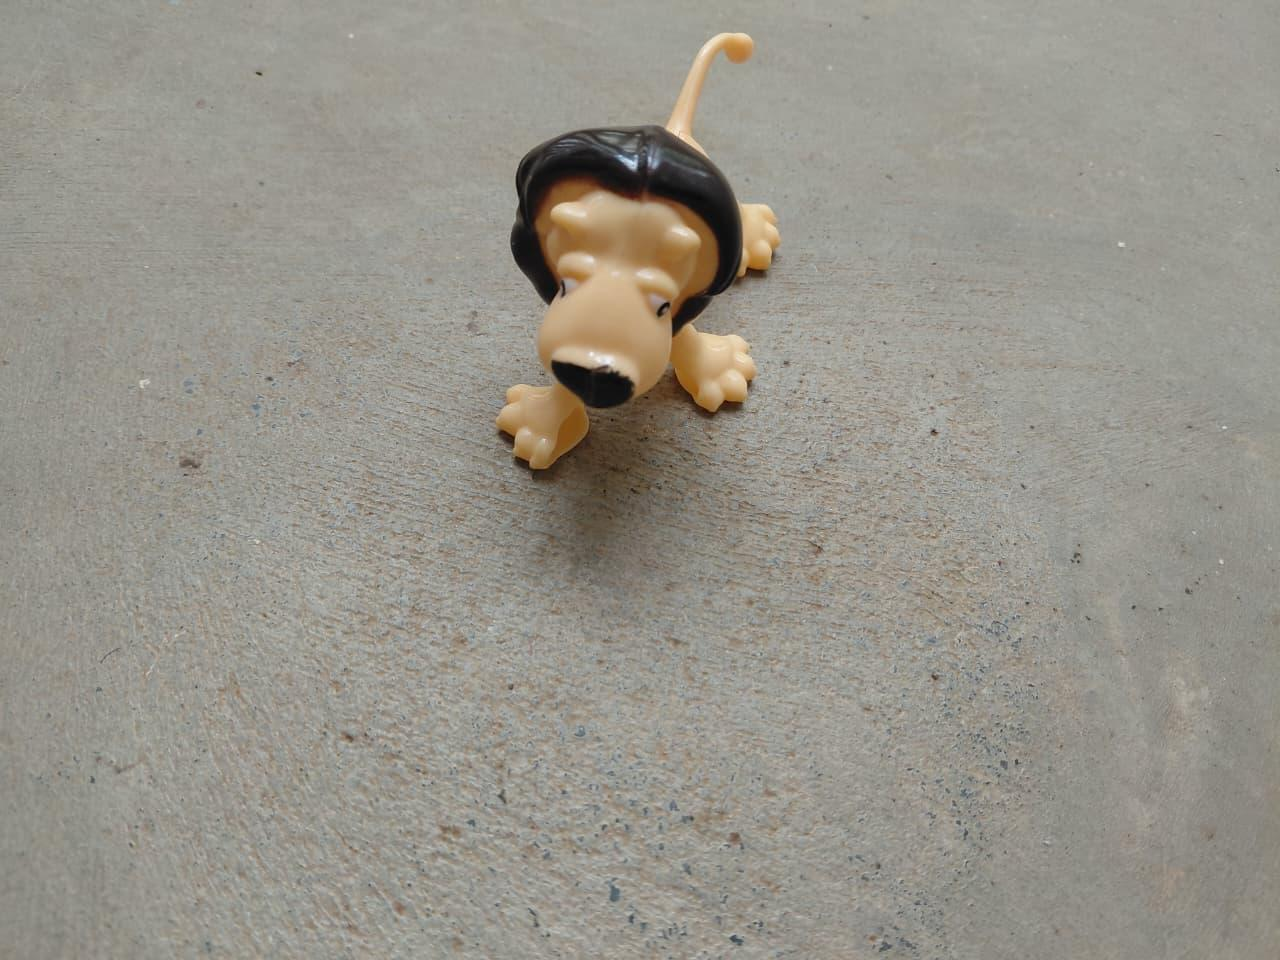lion: (476, 26, 795, 471)
